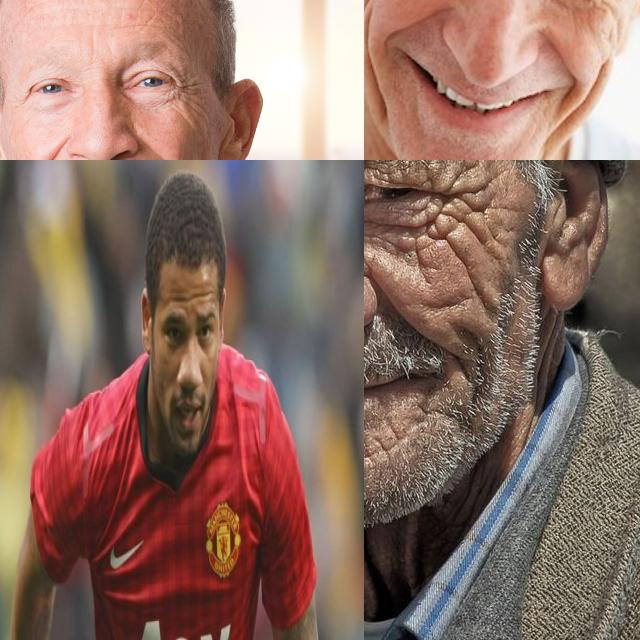chin: (364, 430, 400, 463)
crows_feet: (433, 182, 479, 240), (590, 0, 624, 25), (172, 75, 198, 107)
forehead: (137, 12, 157, 30), (193, 285, 213, 303), (165, 291, 189, 305), (44, 0, 87, 3), (139, 0, 154, 6)
frown_line: (84, 34, 98, 62)
gummy_smile: (371, 272, 407, 326), (542, 34, 580, 80), (388, 6, 448, 34), (36, 140, 66, 160), (146, 143, 177, 160)
masseter: (458, 258, 498, 324), (364, 5, 389, 108), (578, 59, 608, 120)
sad_smile: (453, 343, 495, 409), (555, 81, 577, 122)
